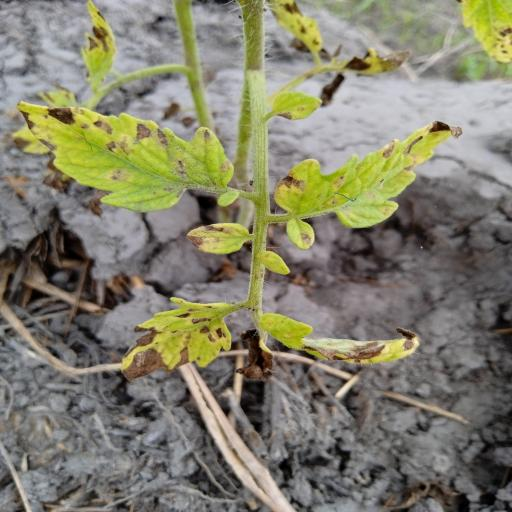Tomato_Brown_Spots: (12, 94, 236, 216), (273, 116, 456, 246), (120, 297, 250, 379)
